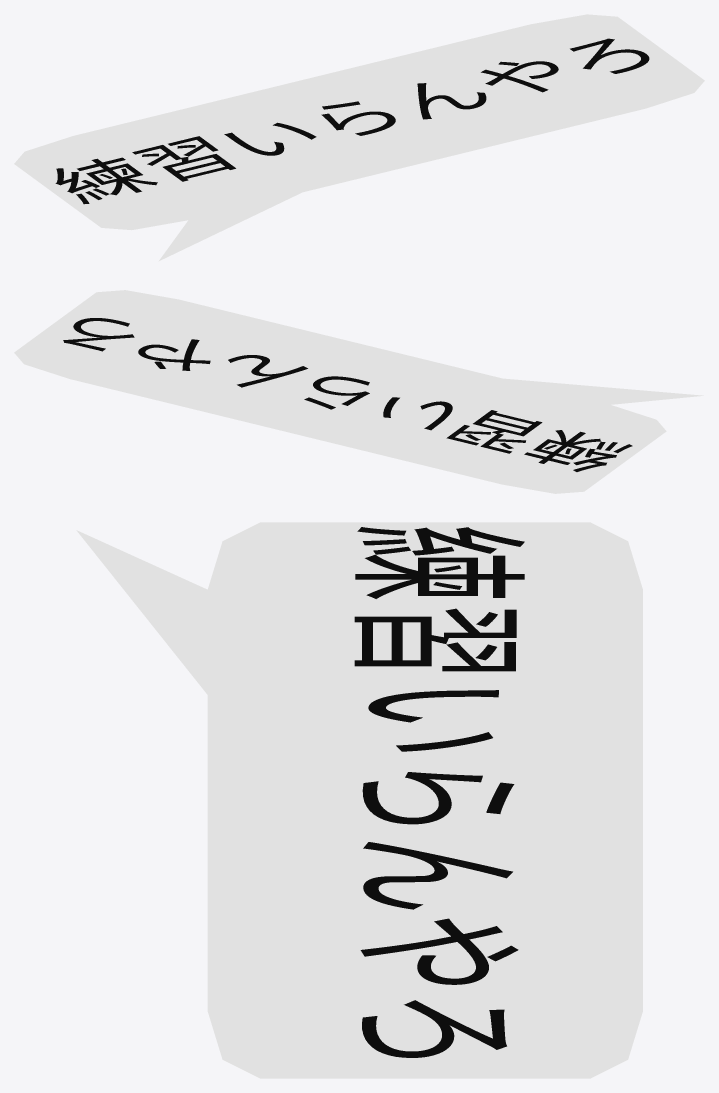
Rendered from Message3.obj.
3 renders of one model, top to bottom at view 1: azimuth 30°, elevation 25°; view 2: azimuth 150°, elevation 25°; view 3: azimuth 270°, elevation 25°, orthographic. The views are drawn at different scales.
Parts seen in each view (by area): view 1: 平面, テキスト; view 2: 平面, テキスト; view 3: 平面, テキスト.
Boxes of the visible parts, x1=… form: 平面: x1=14, y1=14, x2=704, y2=261; テキスト: x1=55, y1=38, x2=649, y2=204; 平面: x1=14, y1=290, x2=703, y2=493; テキスト: x1=63, y1=318, x2=632, y2=471; 平面: x1=76, y1=522, x2=642, y2=1078; テキスト: x1=354, y1=527, x2=524, y2=1057.
Bounding box in the file's own units: 5.32 × 0.0159 × 2.29.
